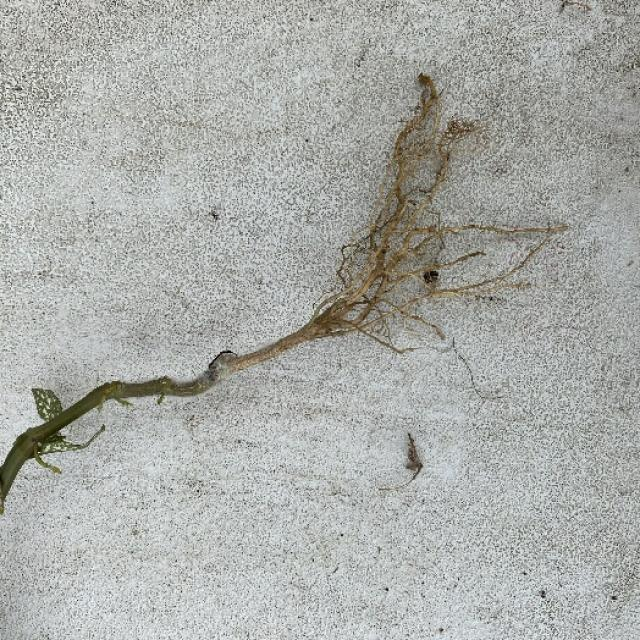organik: (4, 90, 538, 521)
